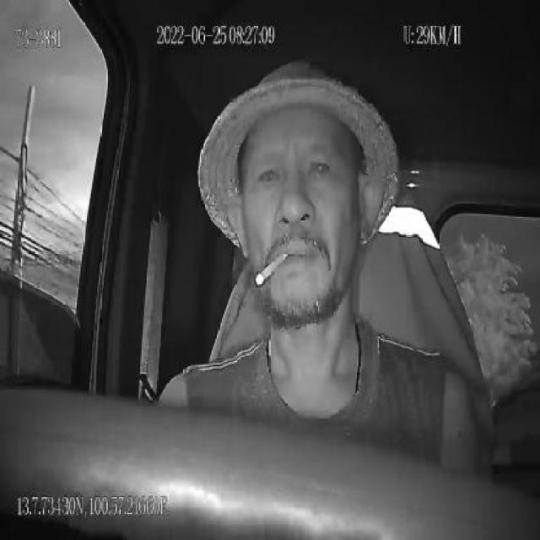smoking: (254, 250, 288, 289)
